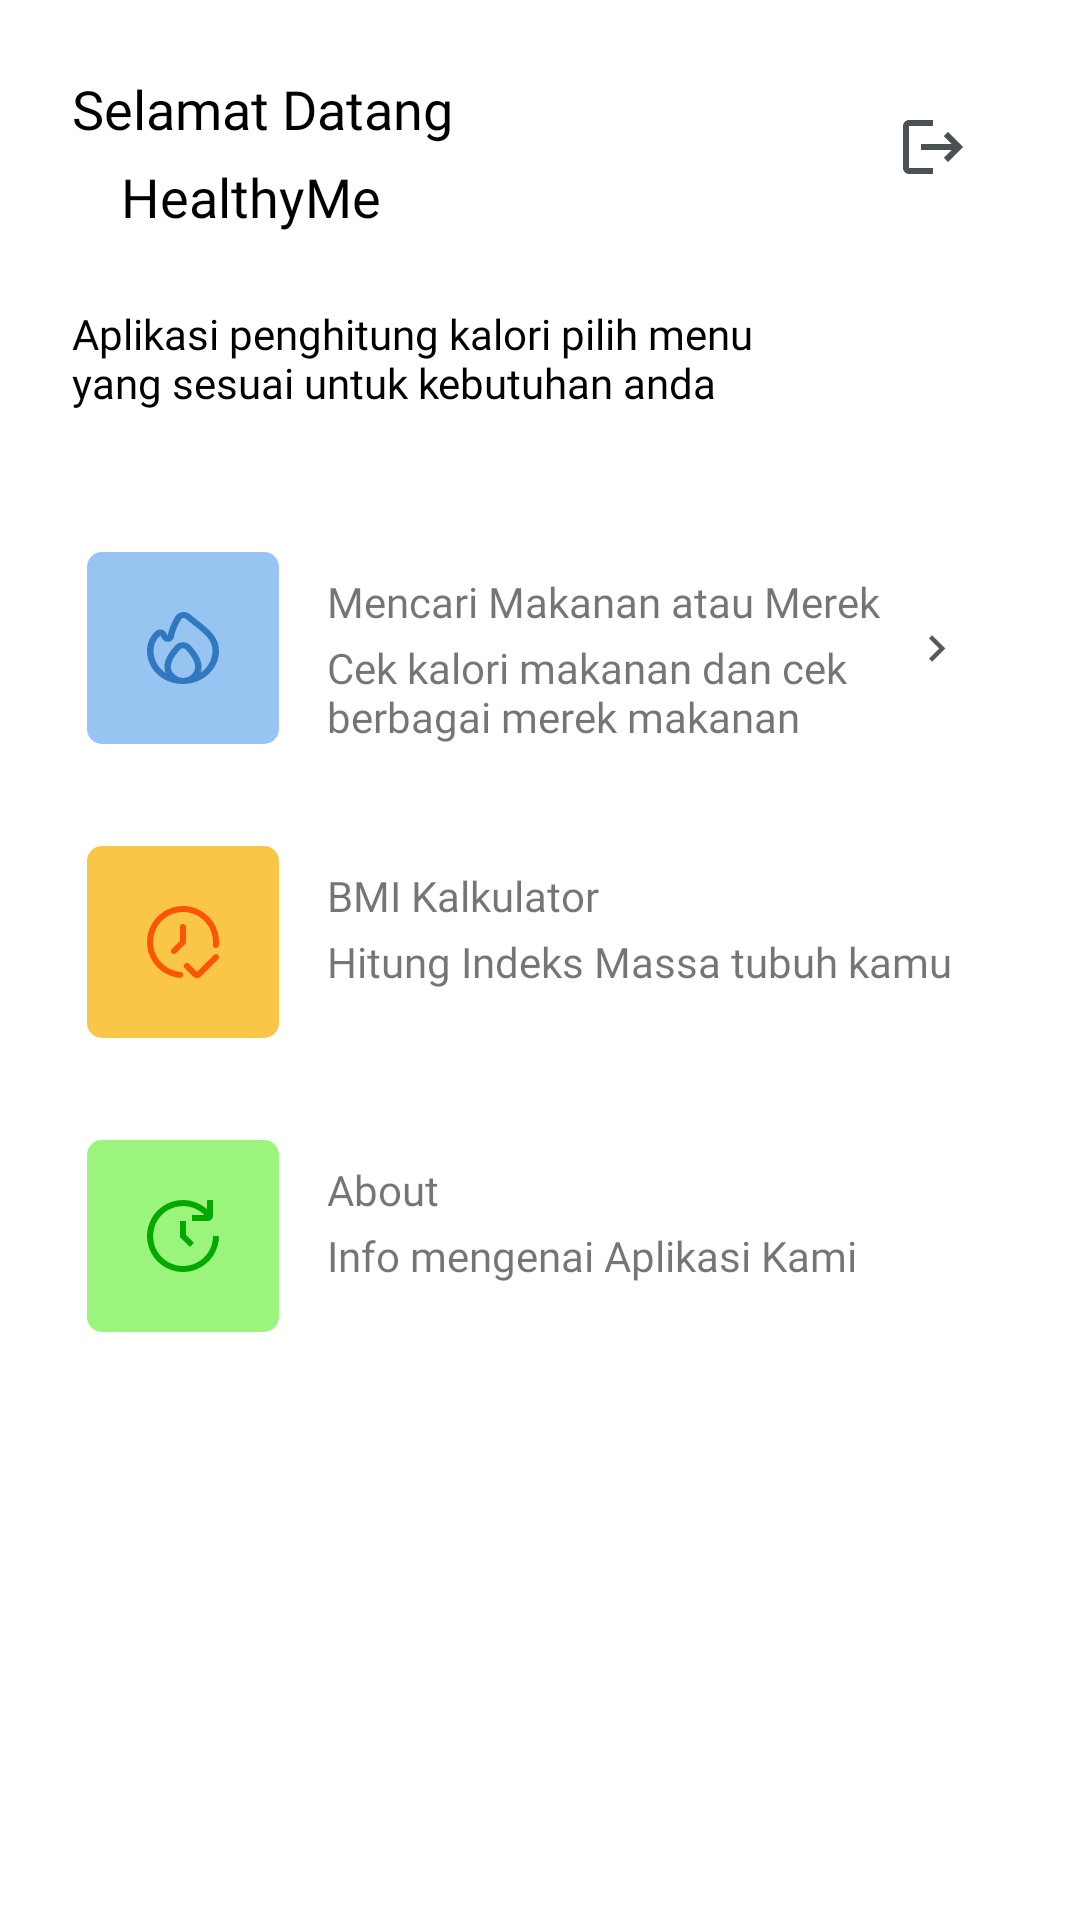

Screen size 1080 x 1920. Icon name, then its center in pixels as point (x, y):
keyboard arrow right: point (937, 648)
